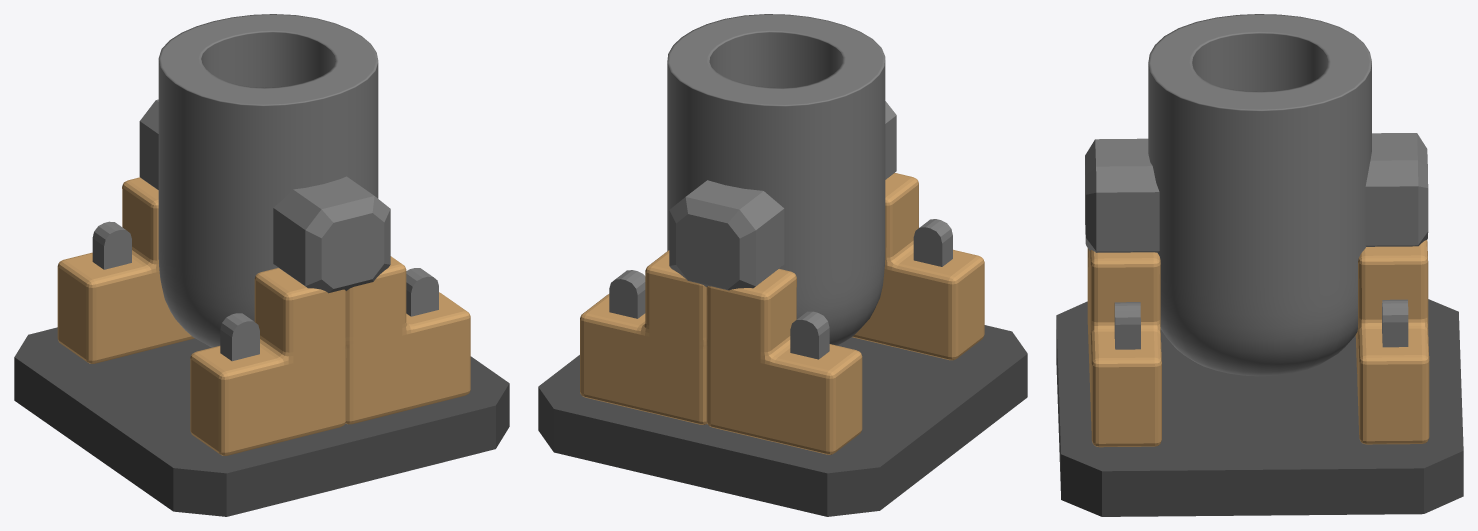
The model's file is sung.fbx.
3 views of the same model, side by side, from view 1: azimuth 30°, elevation 25°; view 2: azimuth 150°, elevation 25°; view 3: azimuth 270°, elevation 25° (orthographic). The views are drawn at different scales.
Visible parts, largest first — view 1: Plane.009; view 2: Plane.009; view 3: Plane.009.
Boxes of the visible parts, <box> form: Plane.009: <box>14,14,509,516</box>; Plane.009: <box>538,14,1027,516</box>; Plane.009: <box>1056,14,1463,516</box>.
Bounding box in the file's own units: 123 × 120 × 120.
